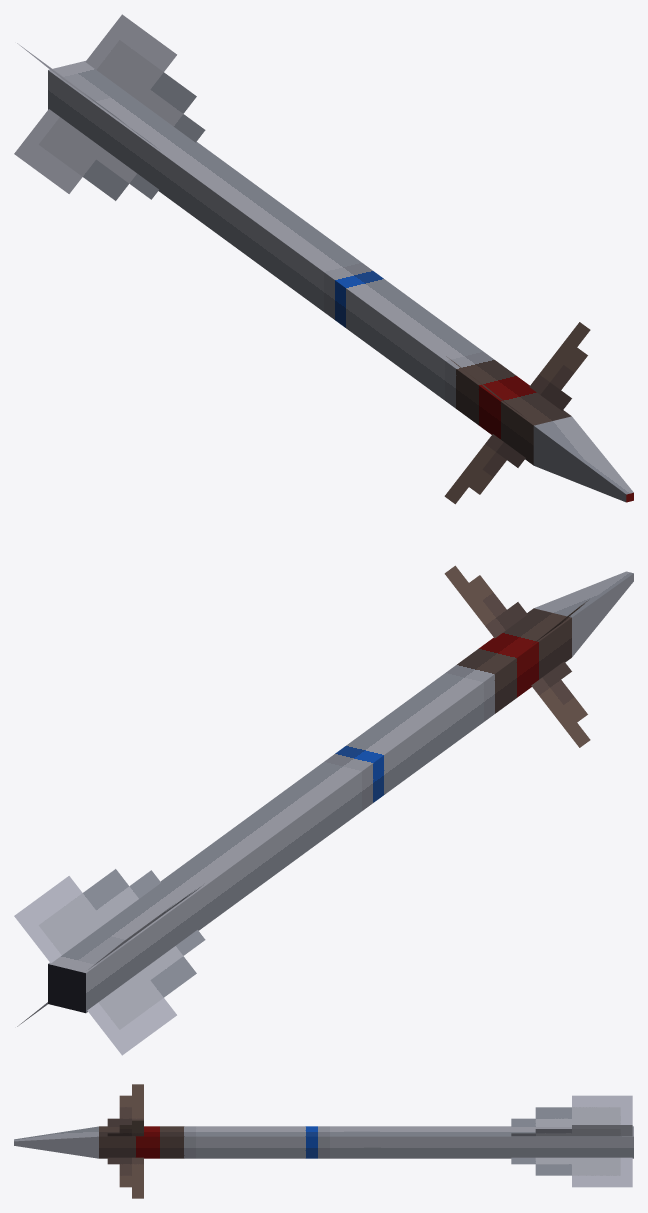
File: aim9.obj
The picture shows the model from 3 angles, top to bottom: view 1: azimuth 30°, elevation 25°; view 2: azimuth 150°, elevation 25°; view 3: azimuth 270°, elevation 25°; orthographic projection. The views are drawn at different scales.
Parts seen in each view (by area): view 1: cube.008; view 2: cube.008; view 3: cube.008.
Part boxes in pixels (x1,y1,x2,y2): cube.008: [14, 14, 633, 504]; cube.008: [14, 565, 633, 1055]; cube.008: [14, 1084, 633, 1198].
Bounding box in the file's own units: 0.4419 × 0.4419 × 3.19.
